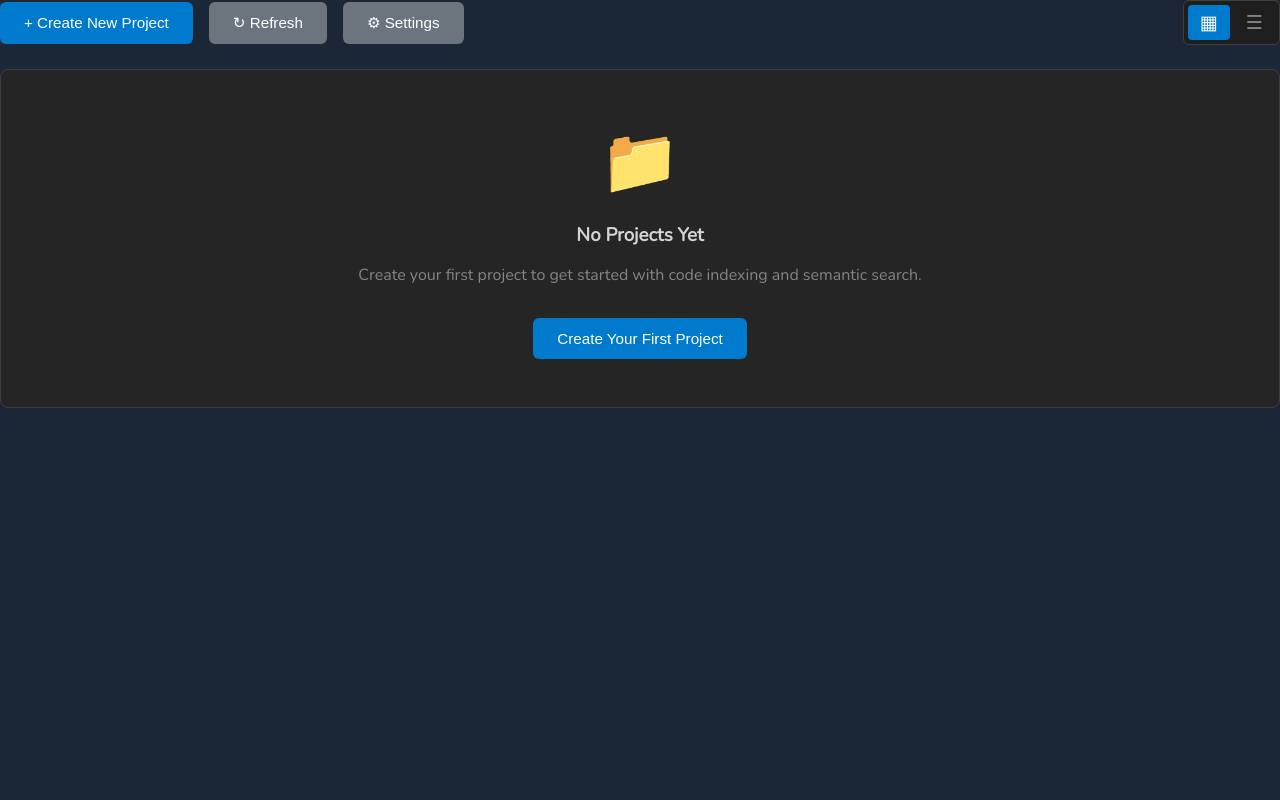
Test: ProjectsView.vue › shows ProjectFormModal when create button is clicked
Click the button "+ Create New Project" at (96, 23), box [0,2,193,44]
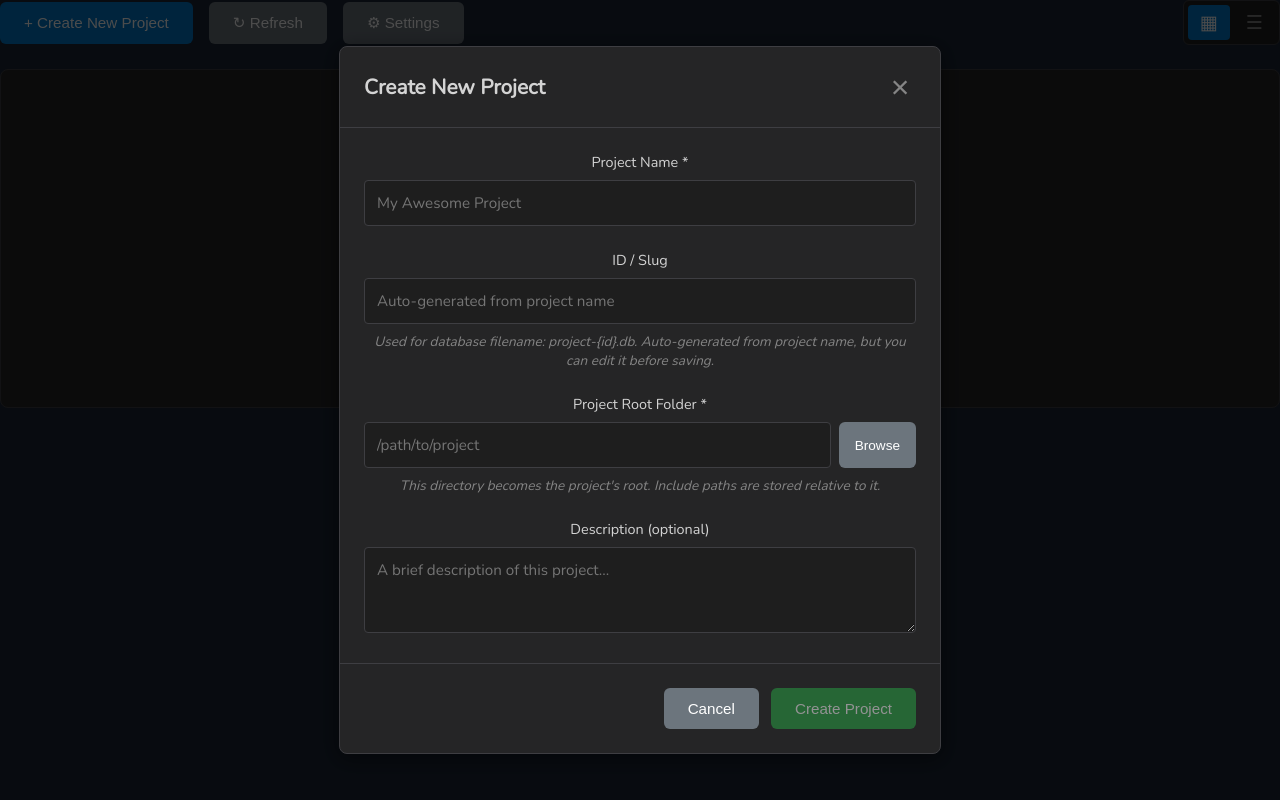
Result: the element that starts with "Create New Project" is shown
